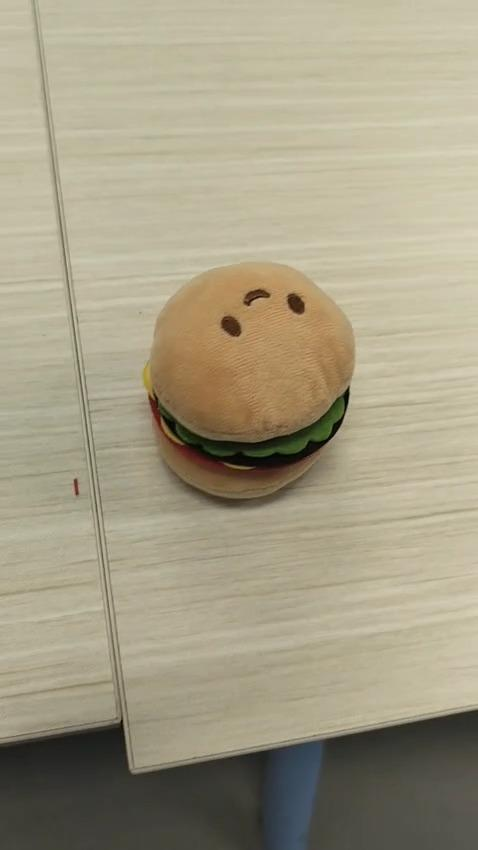hamburger: (141, 259, 356, 501)
